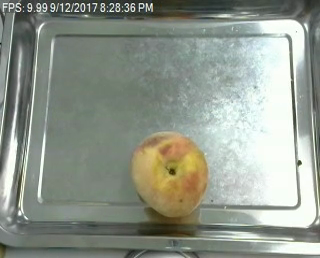Peach: (129, 130, 208, 219)
